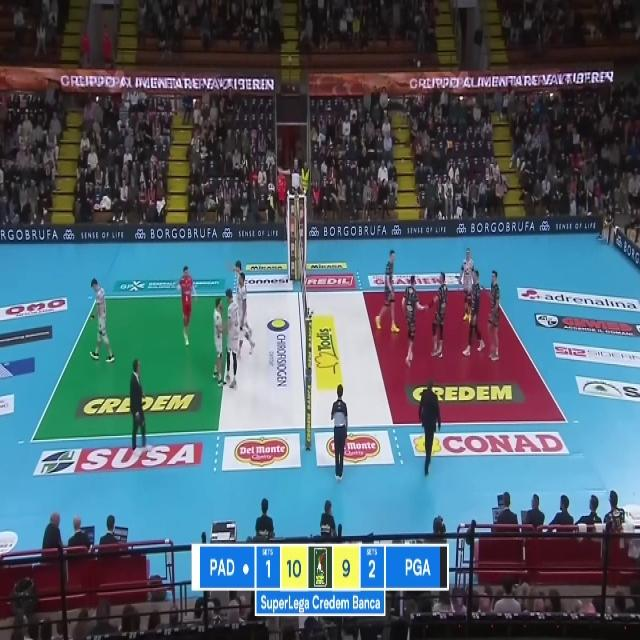volleyball court: (30, 285, 570, 441)
